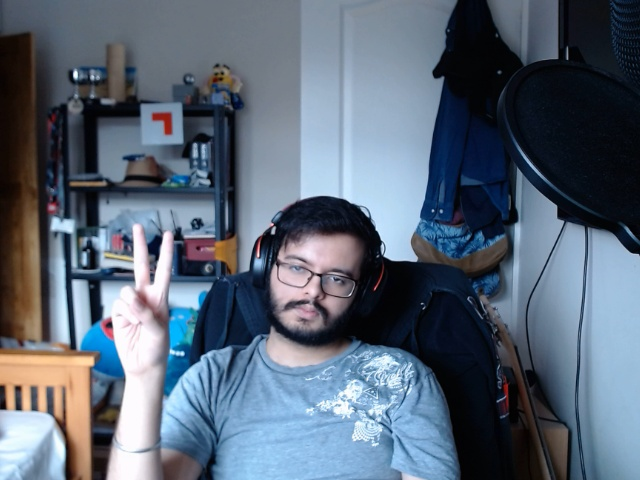Peace: (103, 216, 197, 381)
